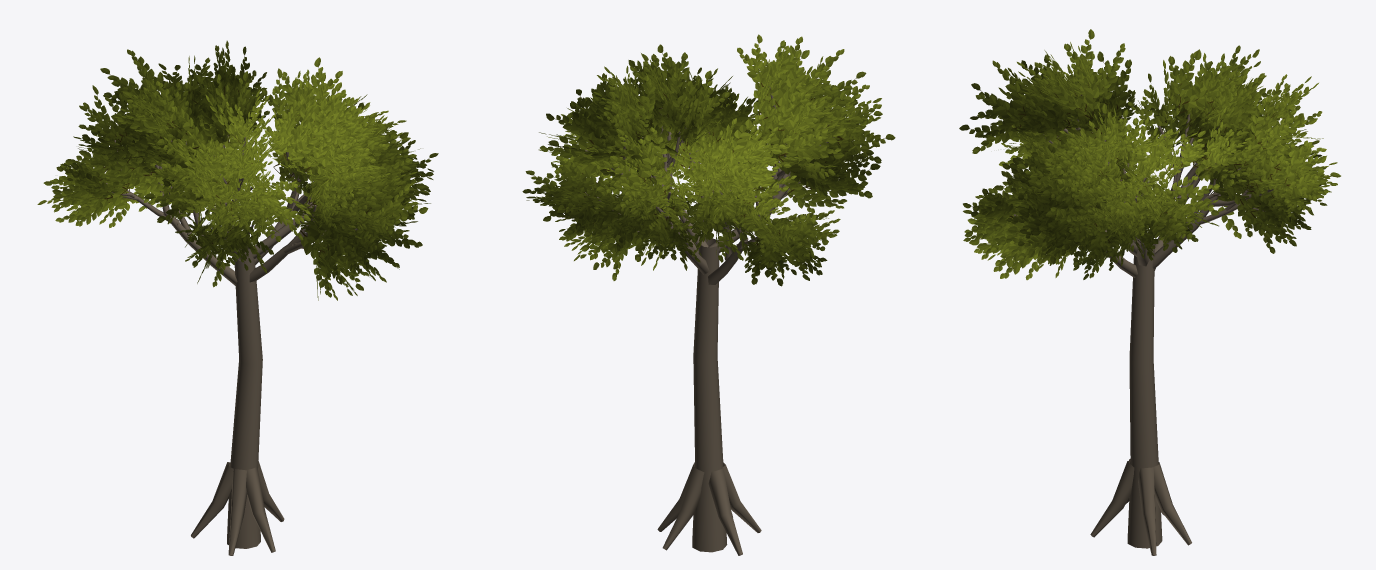
File: jungle_tree_1_burnt1.glb
3 views of the same model, side by side, from view 1: azimuth 30°, elevation 25°; view 2: azimuth 150°, elevation 25°; view 3: azimuth 270°, elevation 25° (orthographic). The views are drawn at different scales.
Parts seen in each view (by area): view 1: jungle_tree_1_burnt1; view 2: jungle_tree_1_burnt1; view 3: jungle_tree_1_burnt1.
Boxes of the visible parts, x1=… form: jungle_tree_1_burnt1: x1=37, y1=40, x2=438, y2=555; jungle_tree_1_burnt1: x1=522, y1=34, x2=895, y2=555; jungle_tree_1_burnt1: x1=959, y1=29, x2=1340, y2=555.
Bounding box in the file's own units: 13.03 × 17.03 × 12.99.
Materials: 2 (1 with a texture image).
